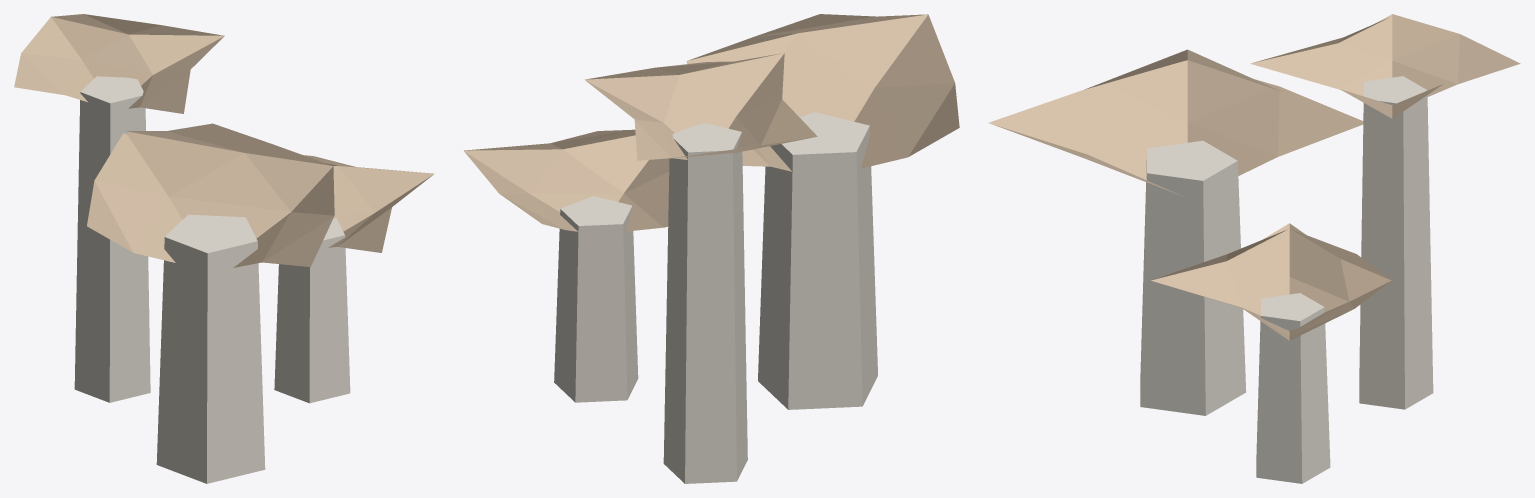
File: mushroom_v49.glb
The picture shows the model from 3 angles, left to right: view 1: azimuth 30°, elevation 25°; view 2: azimuth 150°, elevation 25°; view 3: azimuth 270°, elevation 25°; orthographic projection. The views are drawn at different scales.
Parts seen in each view (by area): view 1: lod0; view 2: lod0; view 3: lod0.
Part boxes in pixels (bbox=[...]): lod0: bbox=[14, 14, 434, 483]; lod0: bbox=[464, 14, 959, 483]; lod0: bbox=[988, 14, 1520, 483].
Size of what is drawn, in the model's own units: 0.4766 by 0.419 by 0.5419.
